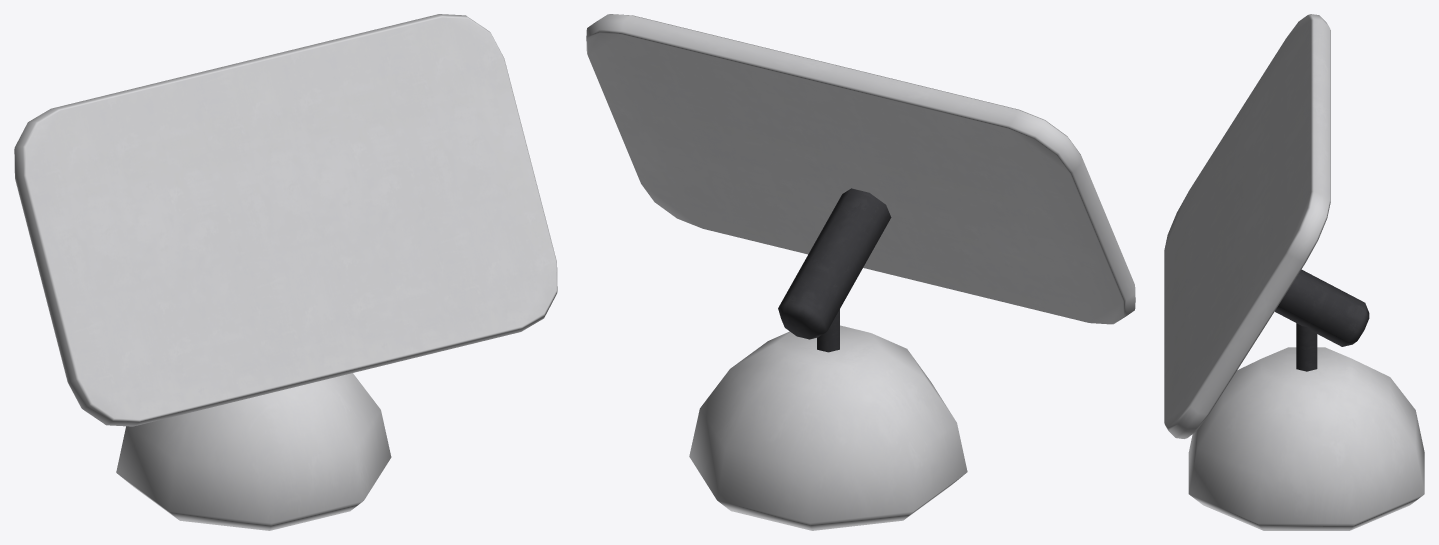
The model's file is computerMesh.fbx.
The picture shows the model from 3 angles, left to right: view 1: azimuth 30°, elevation 25°; view 2: azimuth 150°, elevation 25°; view 3: azimuth 270°, elevation 25°; orthographic projection. The views are drawn at different scales.
Parts seen in each view (by area): view 1: computer; view 2: computer; view 3: computer.
Boxes of the visible parts, x1,y1,x2,y2 form: computer: [14, 14, 557, 530]; computer: [586, 14, 1135, 530]; computer: [1164, 14, 1424, 530].
Bounding box in the file's own units: 146 × 119 × 73.41.
